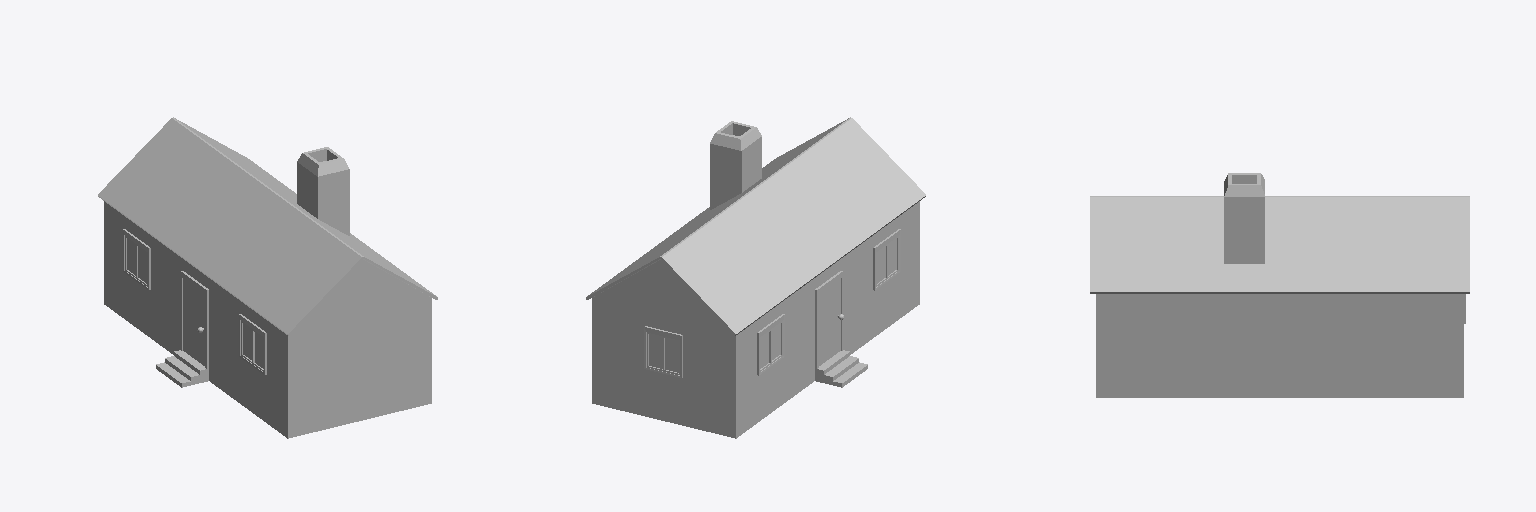
The model's file is house.obj.
3 renders of one model, left to right at view 1: azimuth 30°, elevation 25°; view 2: azimuth 150°, elevation 25°; view 3: azimuth 270°, elevation 25°, orthographic.
Parts seen in each view (by area): view 1: Cube.001; view 2: Cube.001; view 3: Cube.001.
Boxes of the visible parts, box(x1,y1,x2,y2) form: Cube.001: box(98, 117, 437, 438); Cube.001: box(586, 117, 925, 438); Cube.001: box(1090, 173, 1469, 397).
Bounding box in the file's own units: 5.74 × 6.33 × 10.83.